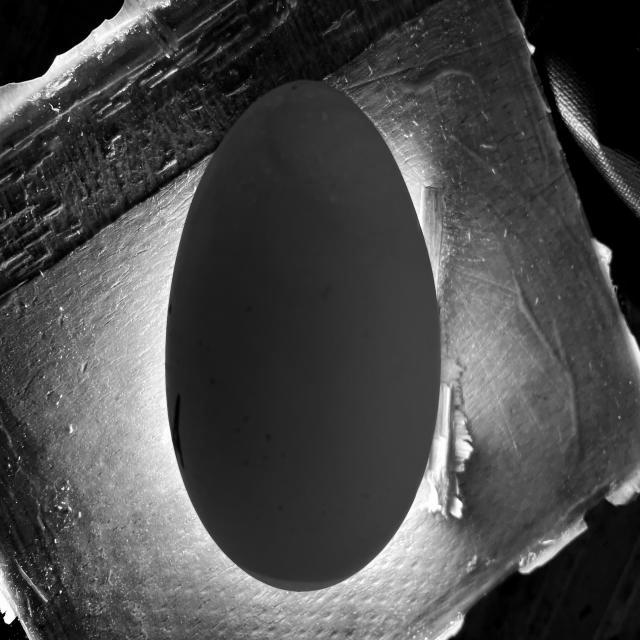telur: (155, 67, 446, 598)
